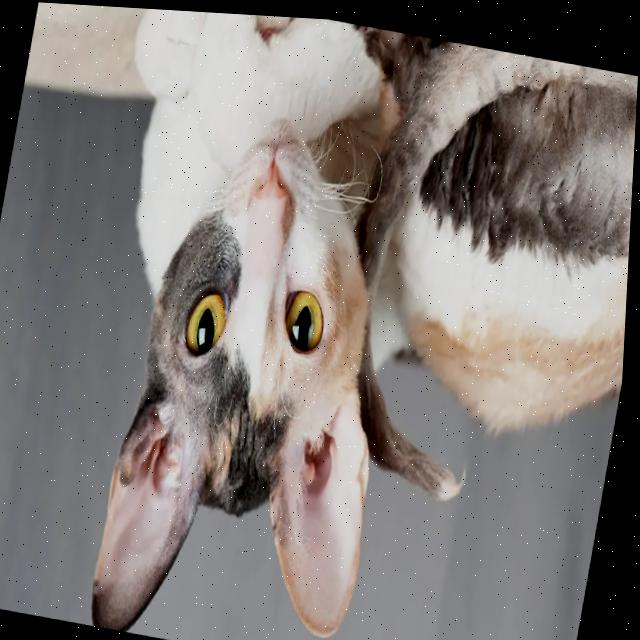Cornish Rex: (34, 3, 640, 640)
